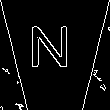N_S: (33, 30, 77, 80)
